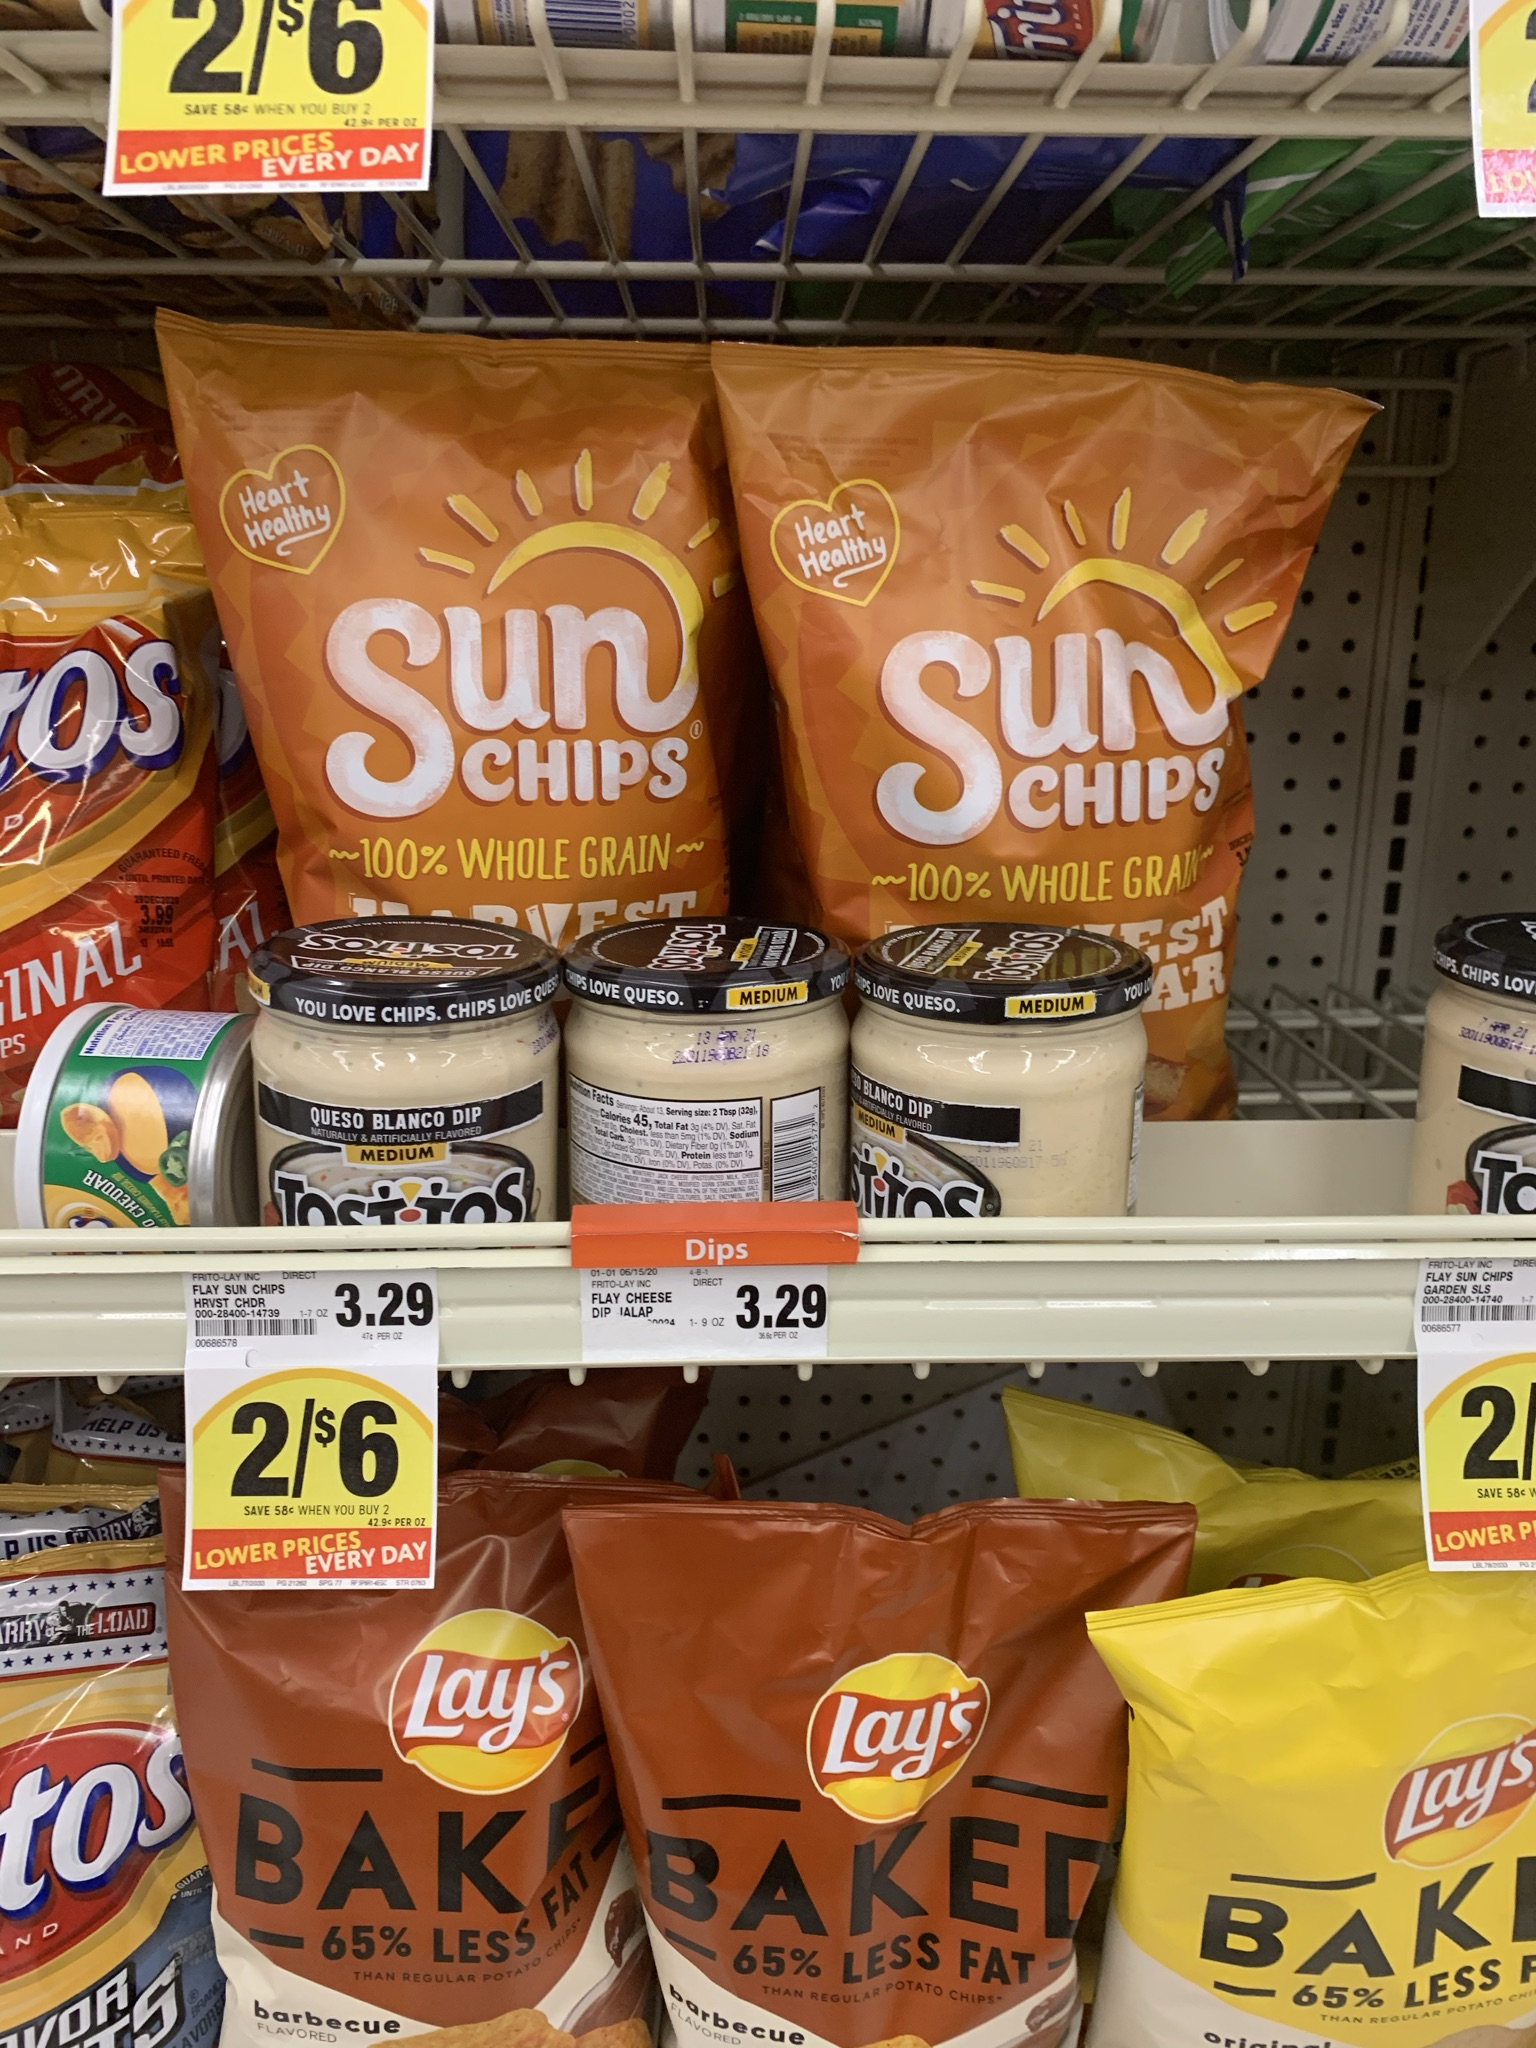lays: (197, 1500, 658, 2048), (674, 1505, 1079, 2048), (1117, 1606, 1513, 2014)
sunchips: (757, 366, 1252, 1089), (182, 340, 729, 976)
